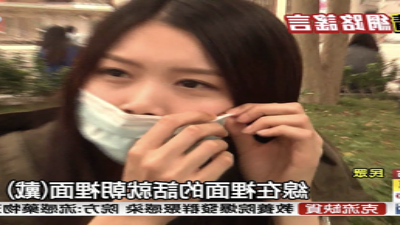mask_weared_incorrect: (71, 47, 232, 169)
